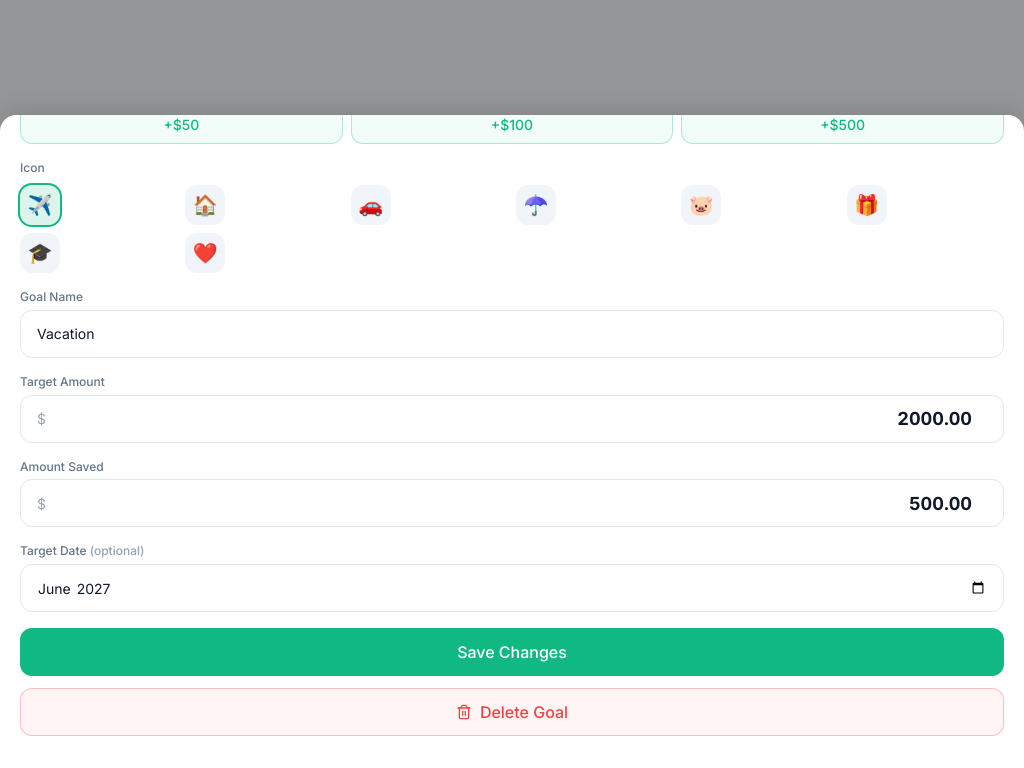
it: EditGoalSheet › shows delete confirmation when delete button clicked
(page scrolled)
Click the button with test id "delete-goal-btn". click: click(512, 712)
box: [20,688,1004,736]
(page scrolled)
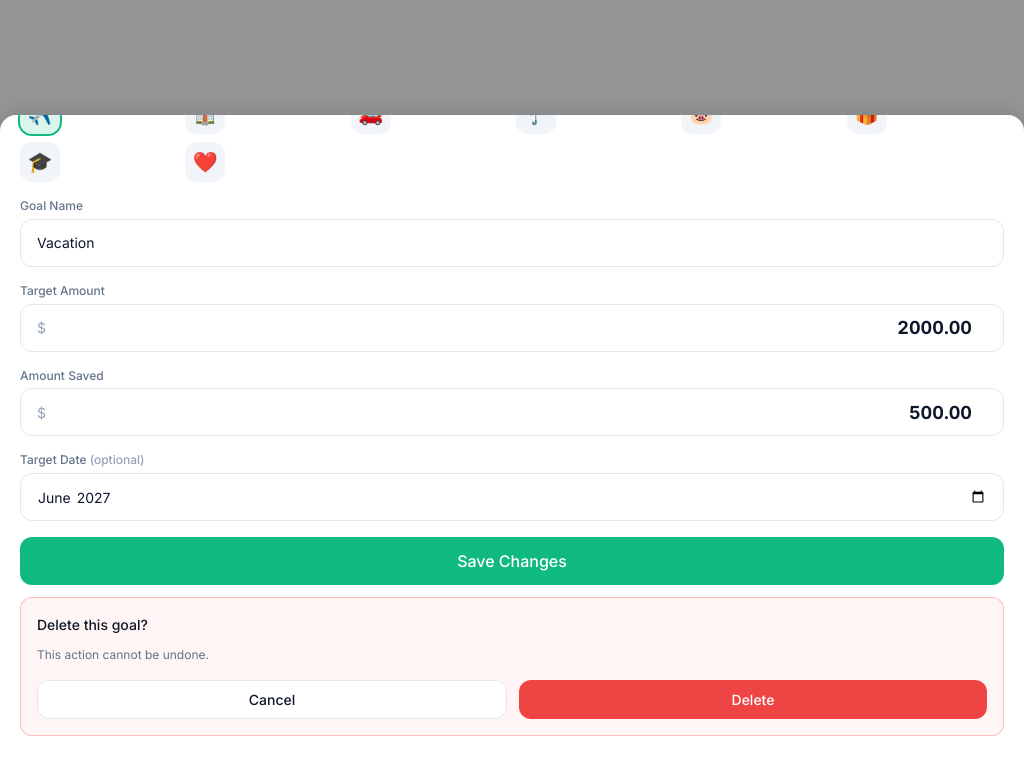
Result: the element with test id "delete-confirm" is shown at [20,597,1004,736]
